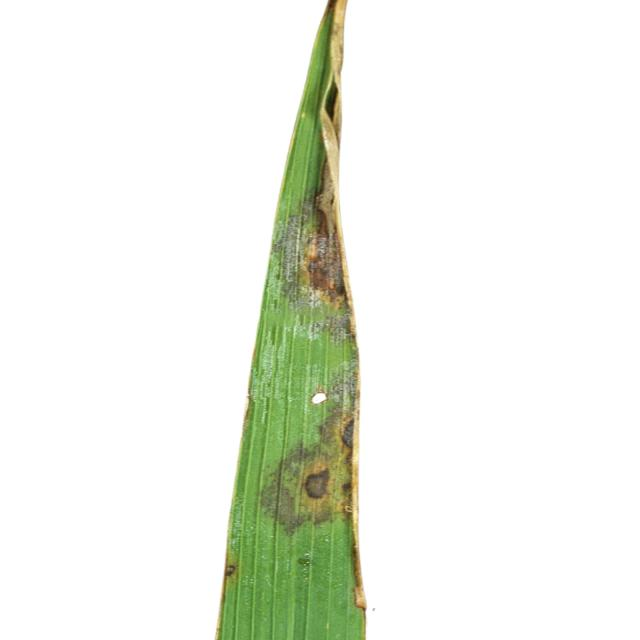Leaf scald: (202, 13, 492, 640)
